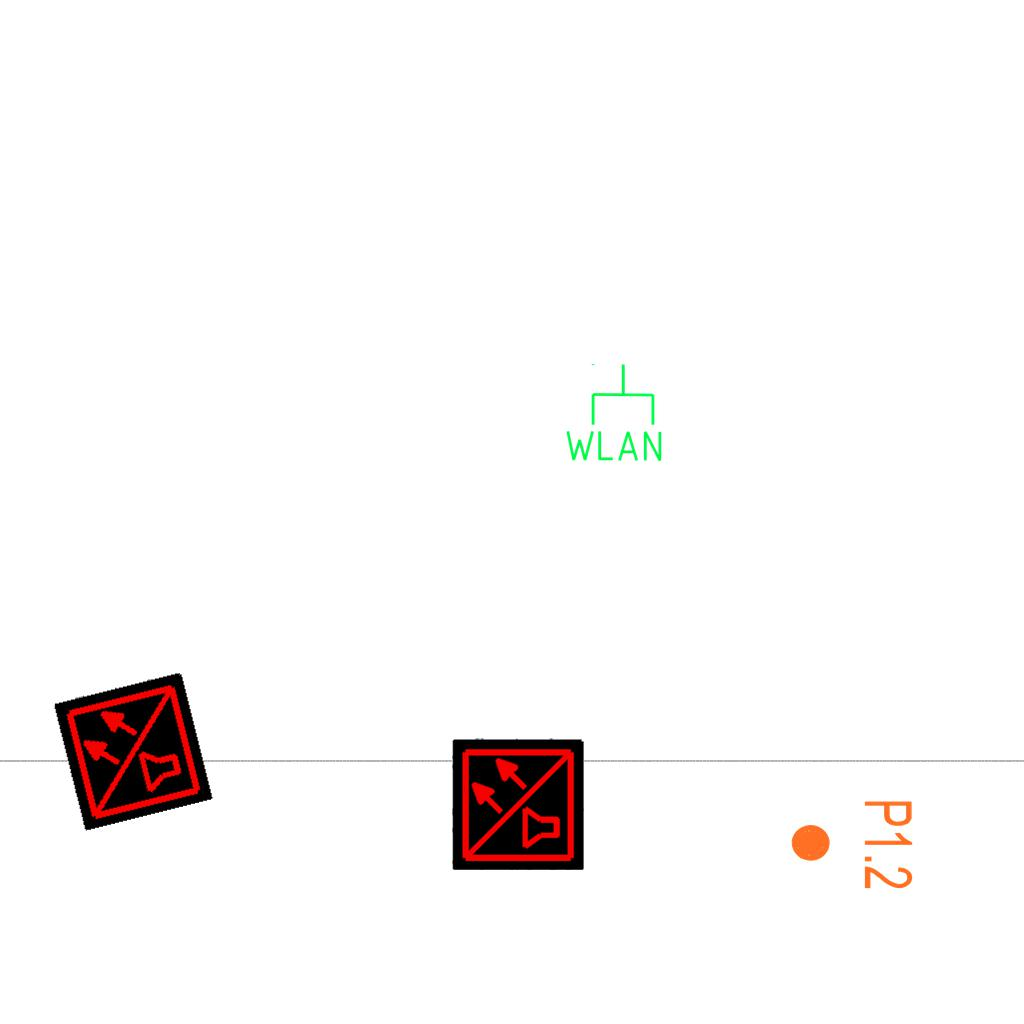Downlight_LED_Einbauleuchten_Flur: (788, 798, 916, 891)
OKW_Multisensormelder_(Kombination_optischer_Rauch-Kahlenmonoxid_Waerme-Melder): (52, 670, 214, 832), (452, 738, 584, 870)
WLAN: (561, 361, 666, 465)
